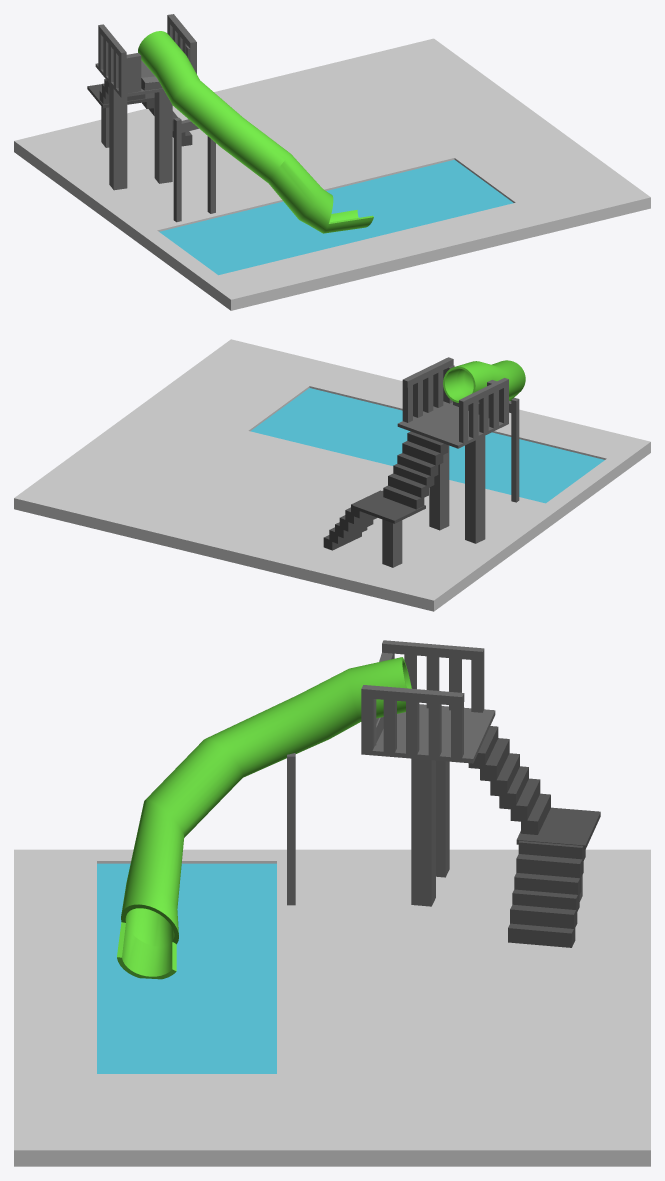
The model's file is water Slide.fbx.
3 views of the same model, one above another, from view 1: azimuth 30°, elevation 25°; view 2: azimuth 150°, elevation 25°; view 3: azimuth 270°, elevation 25° (orthographic). The views are drawn at different scales.
Parts seen in each view (by area): view 1: Cube, Cylinder, Cube.002; view 2: Cube, Cube.002, Cylinder; view 3: Cube, Cube.002, Cylinder.
Boxes of the visible parts, x1=… form: Cube: x1=14, y1=38, x2=650, y2=310; Cylinder: x1=138, y1=31, x2=373, y2=233; Cube.002: x1=87, y1=14, x2=215, y2=222; Cube: x1=14, y1=339, x2=650, y2=611; Cube.002: x1=323, y1=357, x2=519, y2=567; Cylinder: x1=443, y1=360, x2=525, y2=402; Cube: x1=14, y1=849, x2=650, y2=1166; Cube.002: x1=287, y1=640, x2=600, y2=947; Cylinder: x1=117, y1=657, x2=411, y2=979.
Bounding box in the file's own units: 1535 × 589 × 1374.
